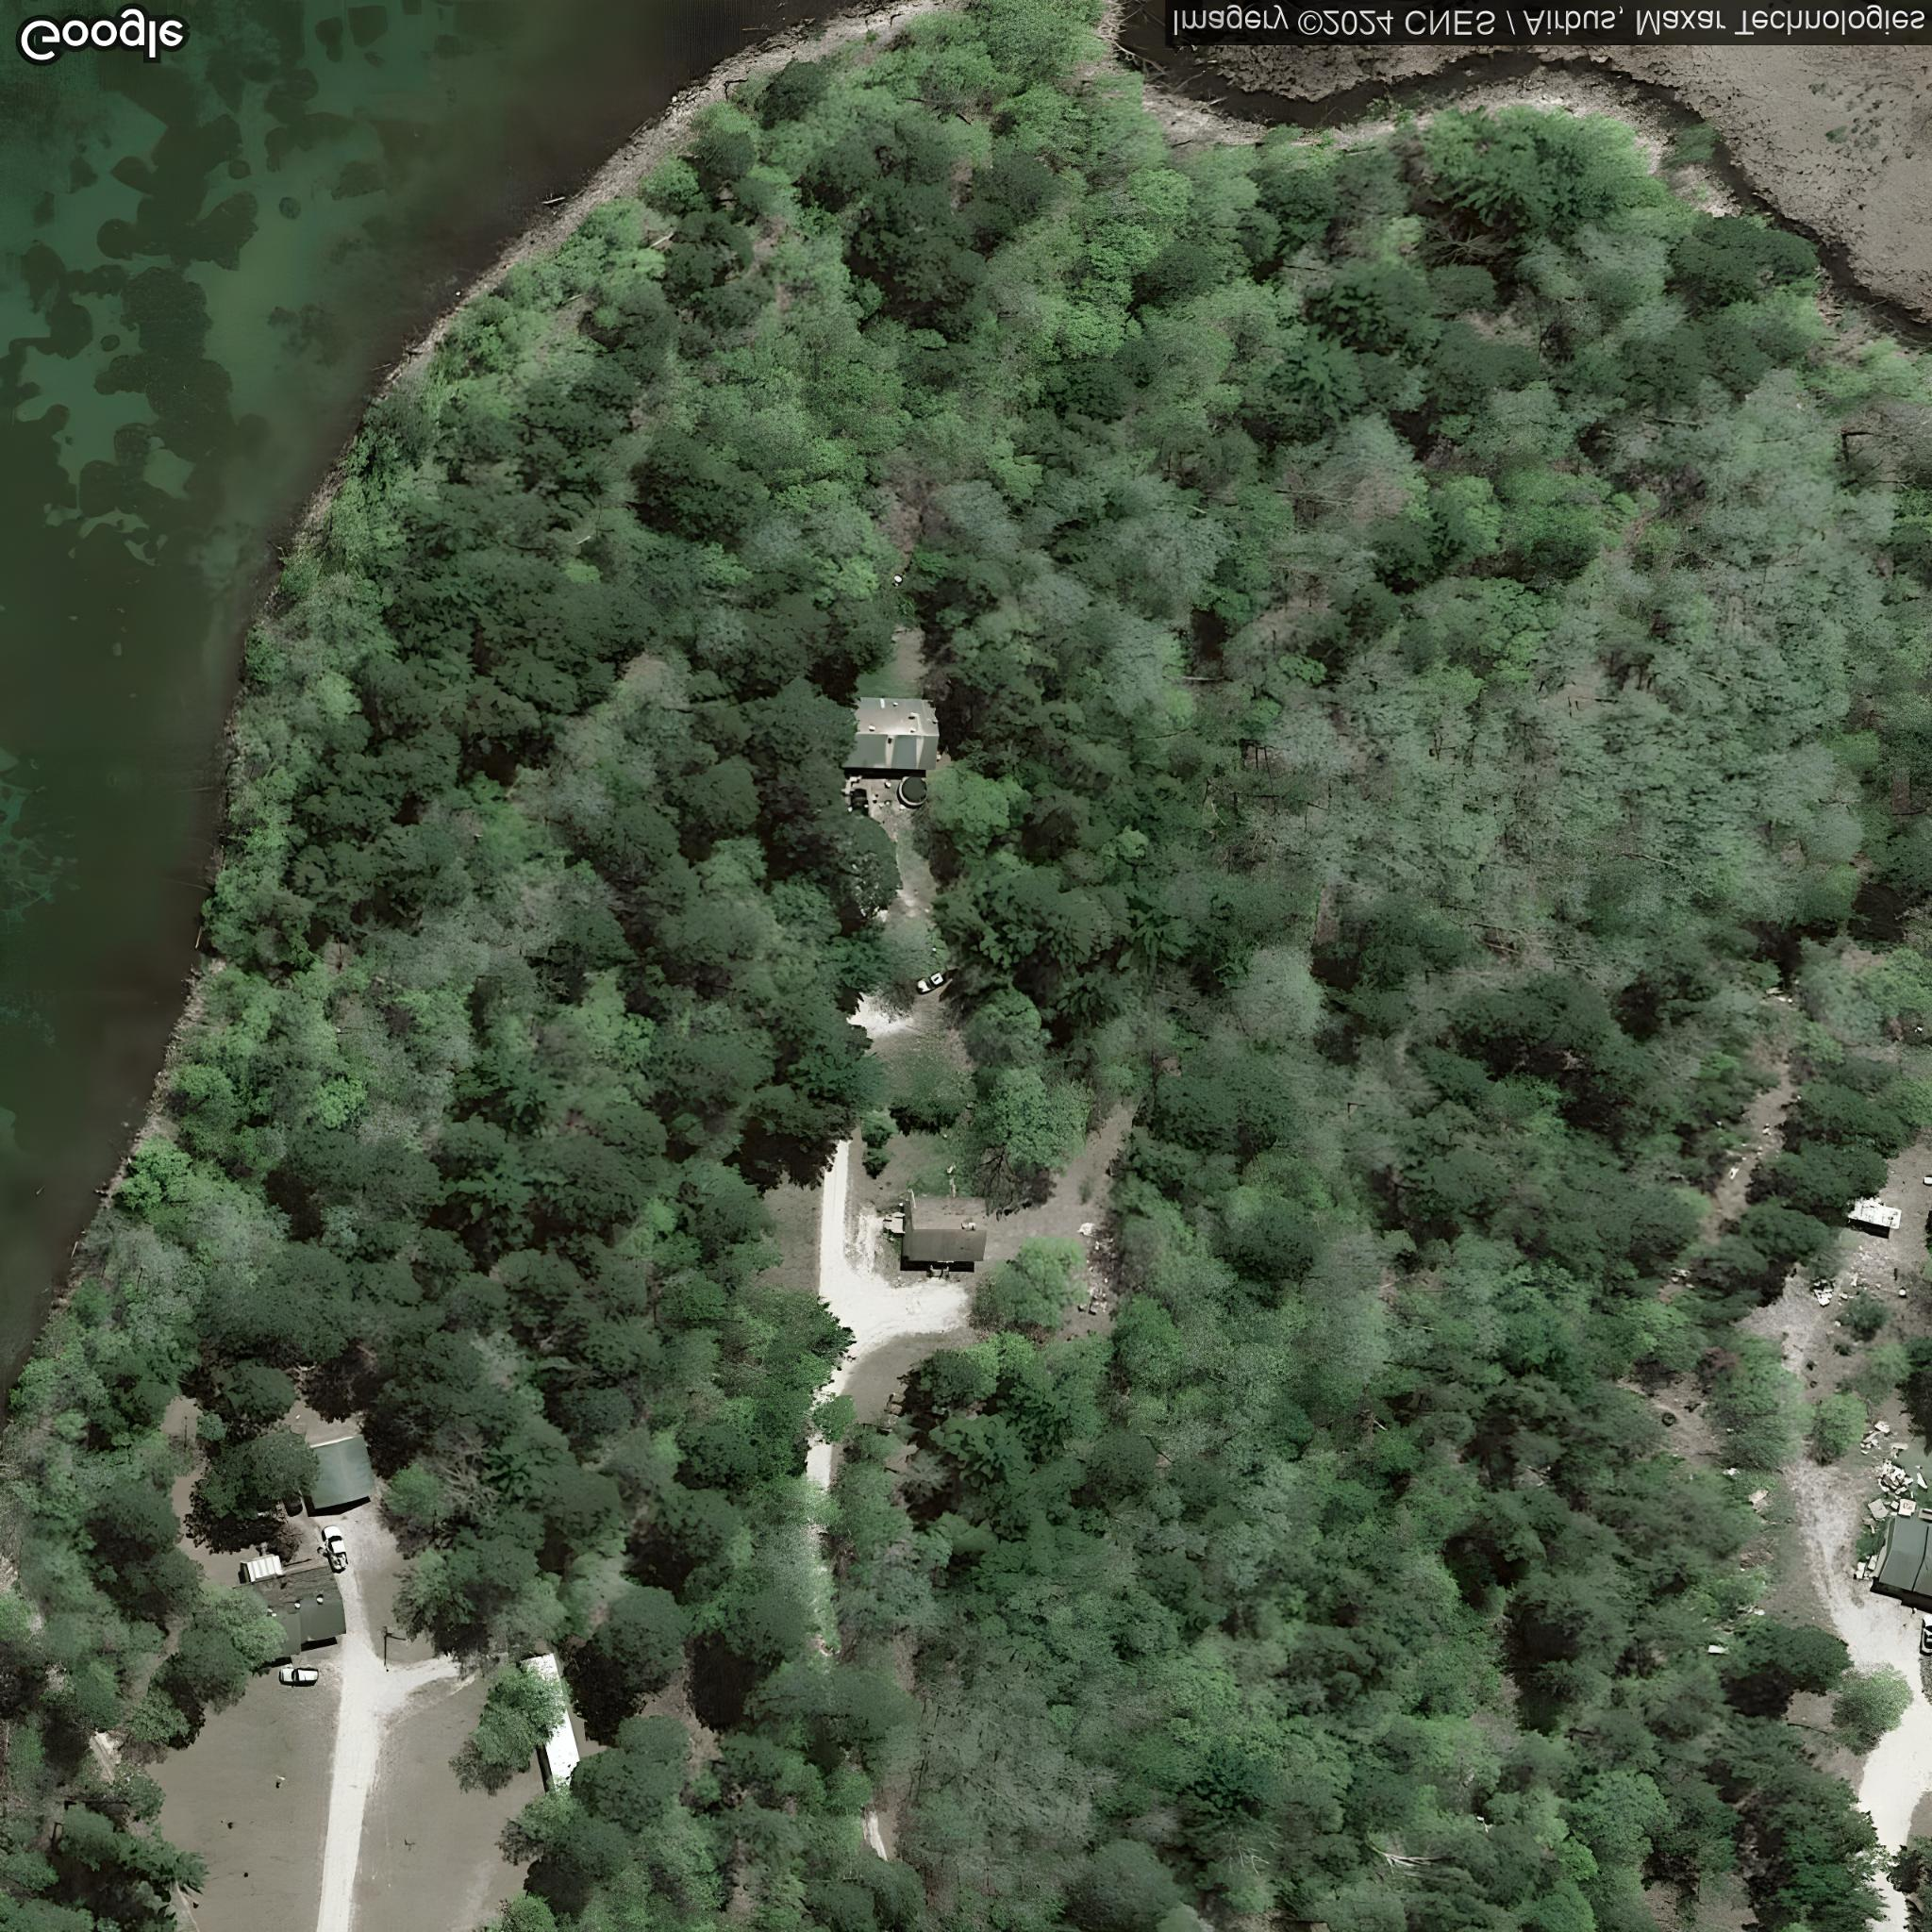Garage: (292, 1433, 379, 1513)
House: (226, 1562, 350, 1663), (837, 694, 943, 773), (902, 1192, 989, 1265), (1874, 1513, 1932, 1599)
Trailer: (515, 1651, 589, 1798)
